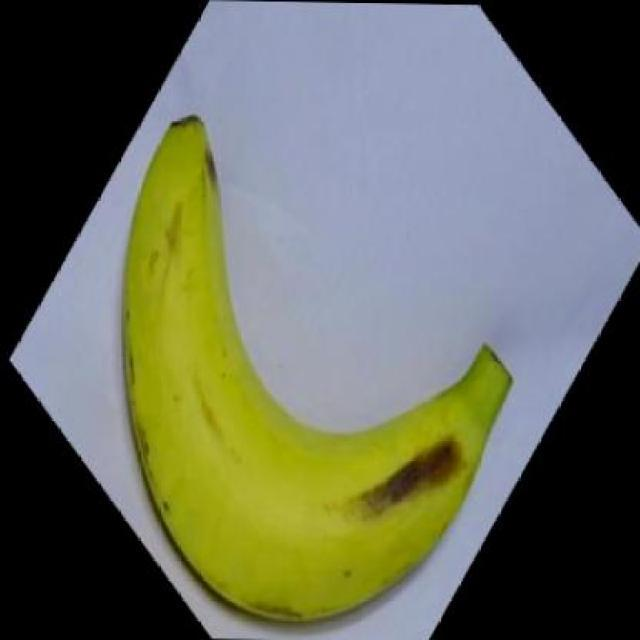unripe: (110, 96, 521, 640)
